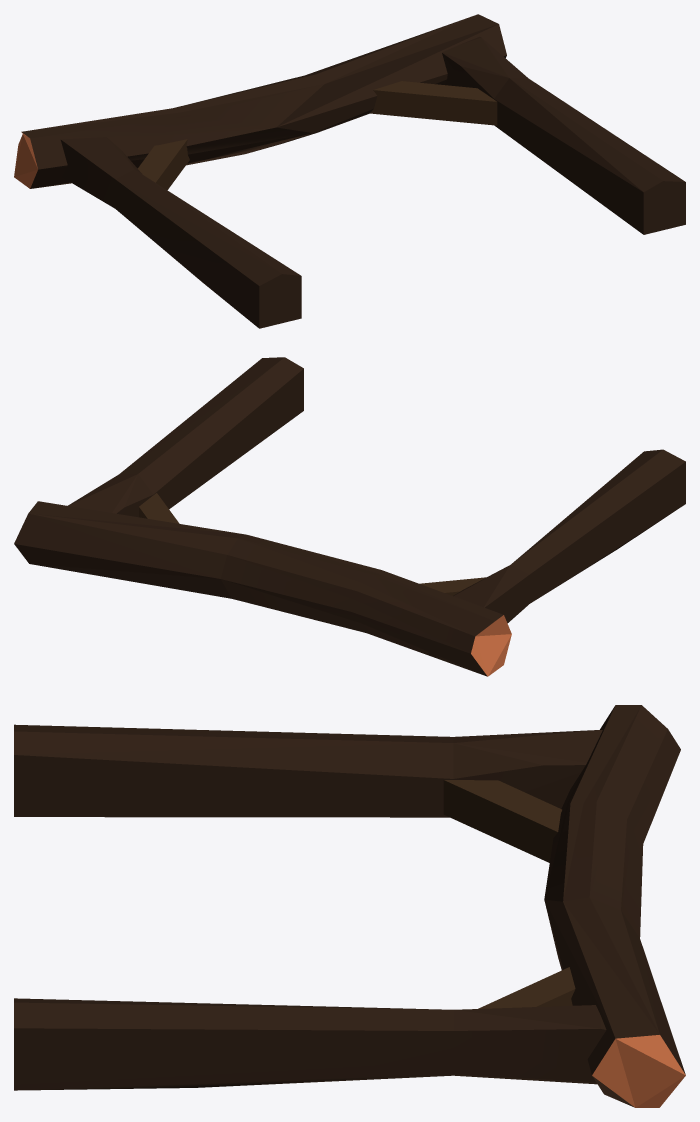
The model's file is Gate.FBX.
3 views of the same model, one above another, from view 1: azimuth 30°, elevation 25°; view 2: azimuth 150°, elevation 25°; view 3: azimuth 270°, elevation 25° (orthographic). The views are drawn at different scales.
Parts seen in each view (by area): view 1: Gate; view 2: Gate; view 3: Gate.
Part boxes in pixels (left/top/right/bottom): Gate: left=14, top=14, right=685, bottom=328; Gate: left=14, top=357, right=685, bottom=676; Gate: left=14, top=705, right=685, bottom=1107.
Bounding box in the file's own units: 3.6 × 0.4322 × 3.07.
